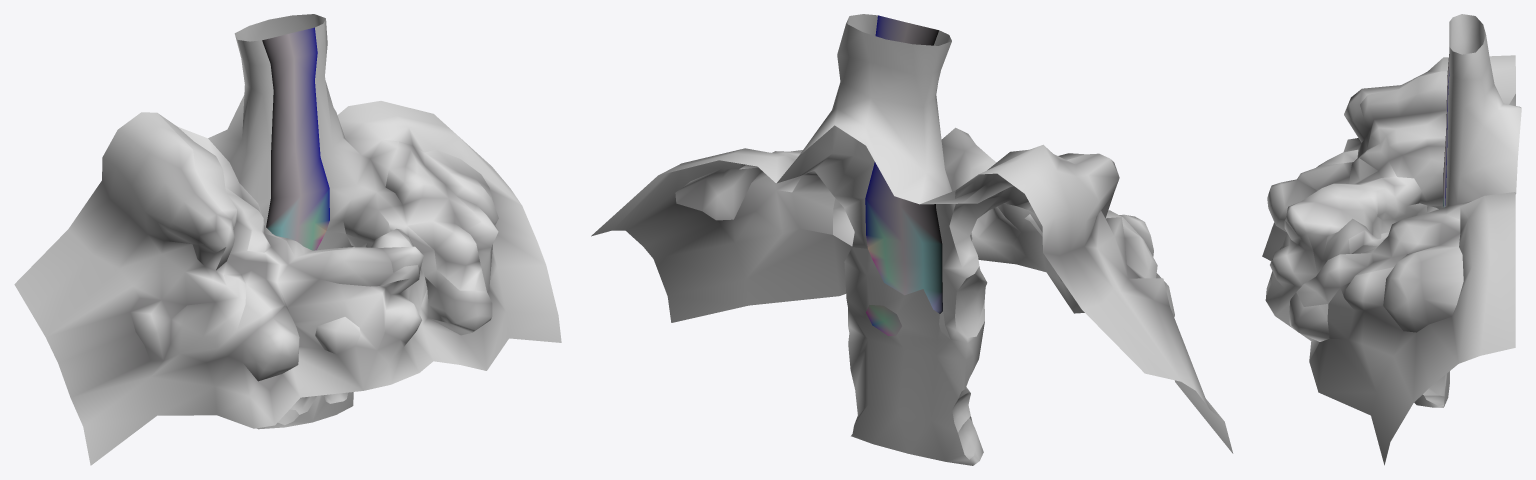
The model's file is Transition_CaveVolcanoA_lod1.glb.
3 views of the same model, side by side, from view 1: azimuth 30°, elevation 25°; view 2: azimuth 150°, elevation 25°; view 3: azimuth 270°, elevation 25° (orthographic). The views are drawn at different scales.
Visible parts, largest first — view 1: MeshNode_0, MeshNode_1; view 2: MeshNode_0, MeshNode_1; view 3: MeshNode_0, MeshNode_1.
Boxes of the visible parts, left/top/right/bottom form: MeshNode_0: left=14, top=14, right=561, bottom=465; MeshNode_1: left=262, top=27, right=329, bottom=250; MeshNode_0: left=591, top=14, right=1233, bottom=465; MeshNode_1: left=865, top=15, right=942, bottom=335; MeshNode_0: left=1262, top=14, right=1521, bottom=465; MeshNode_1: left=1443, top=54, right=1449, bottom=207.
Bounding box in the file's own units: 172 × 128 × 86.3.
